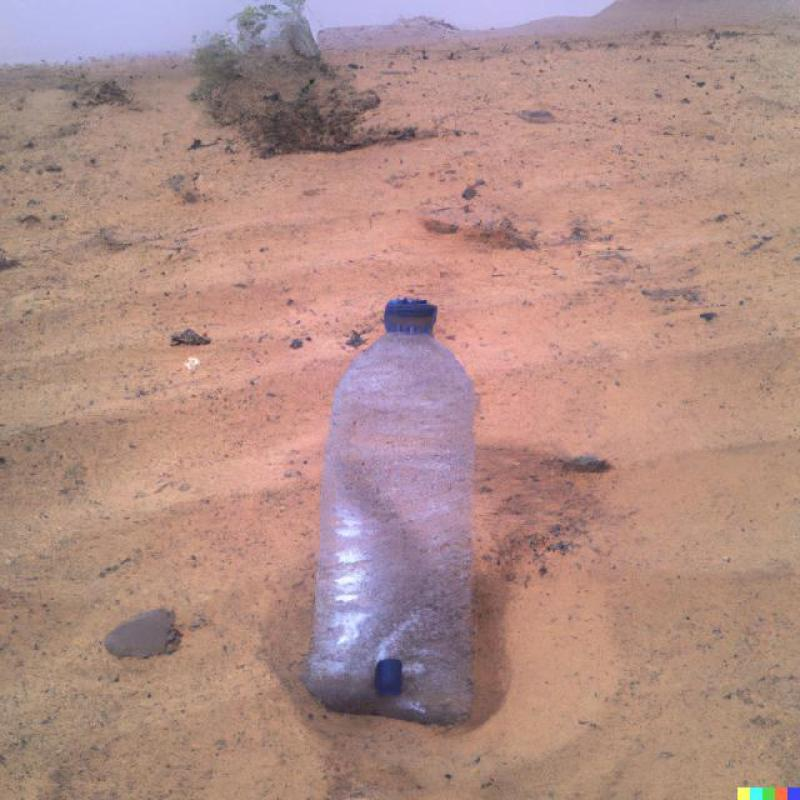botella: (308, 299, 482, 724)
